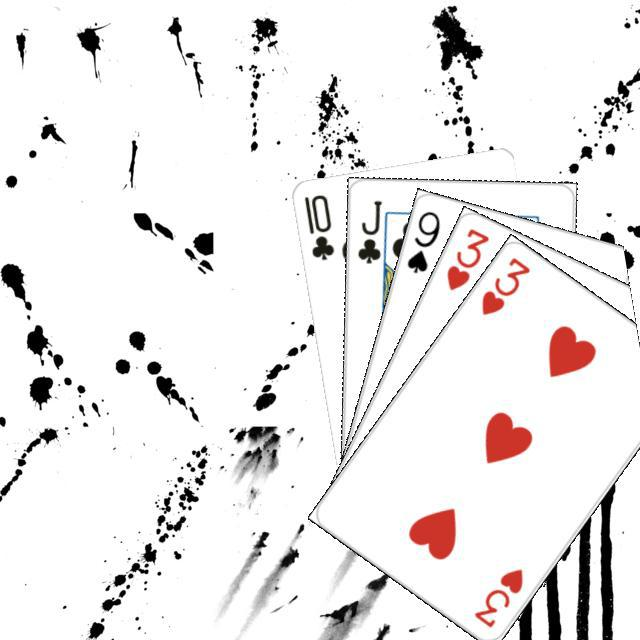10c: (299, 189, 336, 262)
3h: (469, 563, 525, 630), (476, 252, 532, 317), (441, 223, 491, 293)
9s: (402, 206, 442, 275)
Jc: (352, 195, 384, 265)
